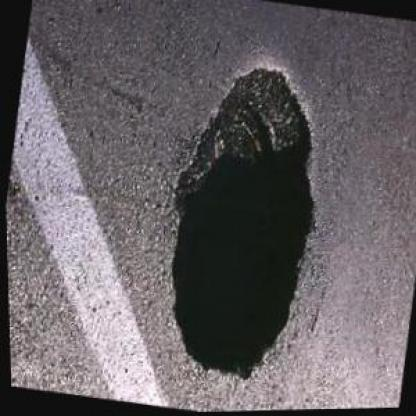pothole: (137, 47, 347, 394)
